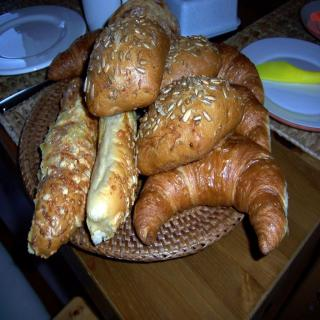Croissant: (133, 128, 289, 256), (231, 84, 272, 155), (217, 43, 264, 103), (49, 26, 102, 78)
